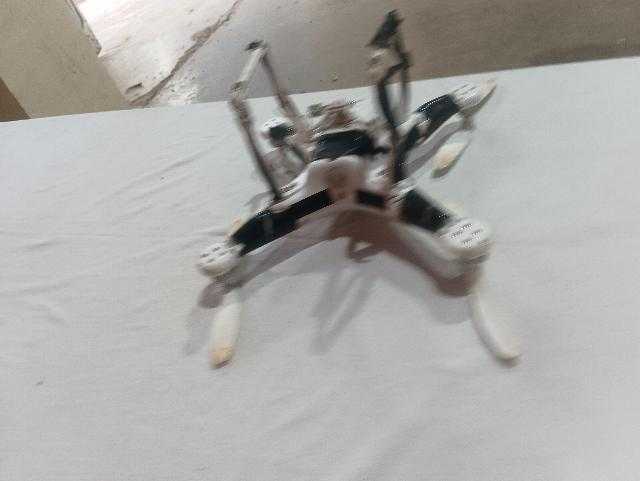drone: (191, 15, 501, 315)
